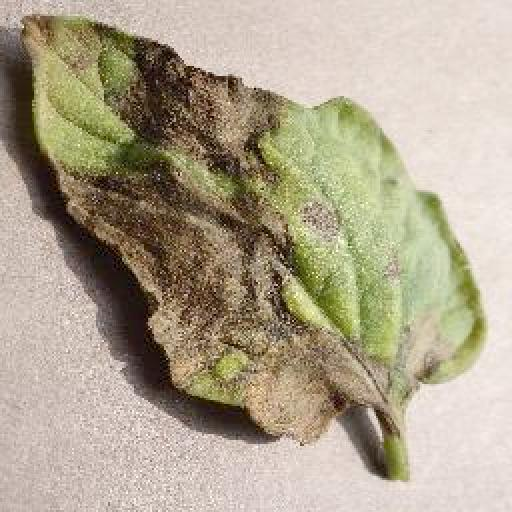disease_tomato: (22, 8, 486, 452)
